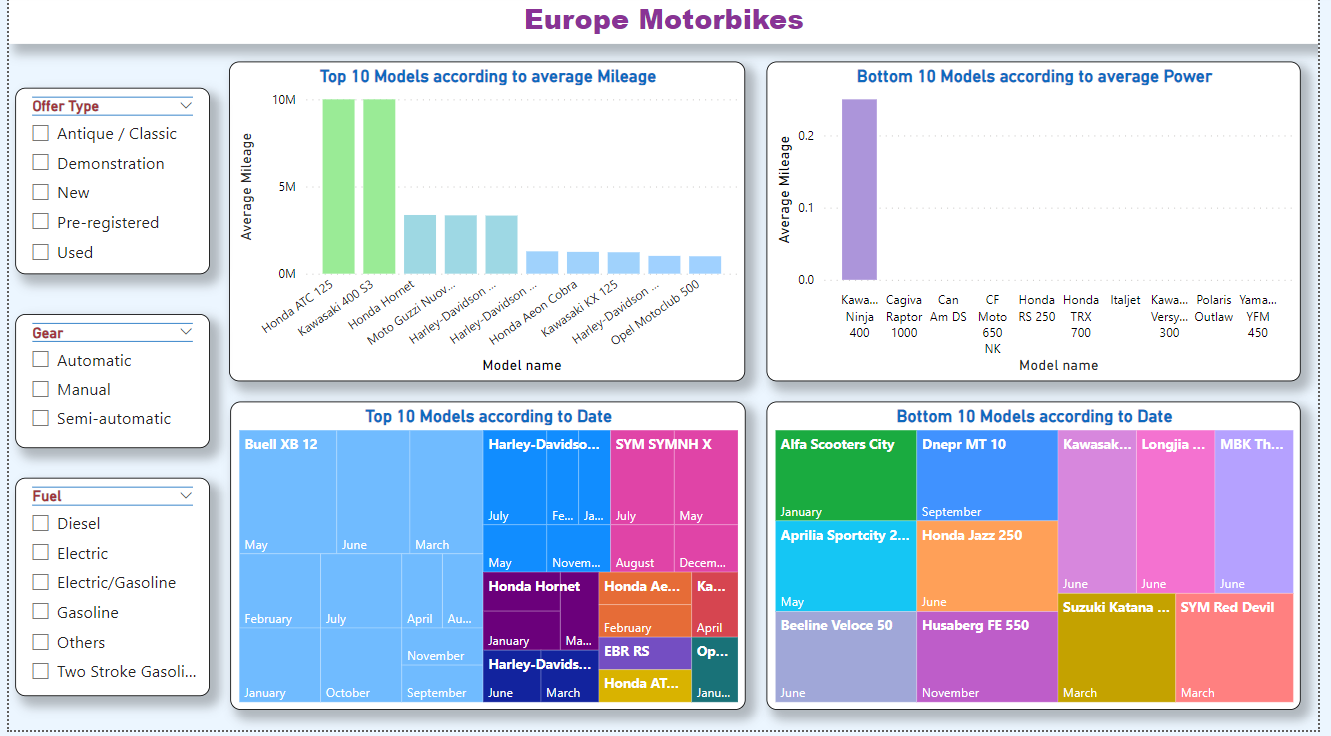

What the dashboard file says about the page in this screenshot:
{"tool":"powerbi","page":{"name":"Mileage & Date/Month","canvas":[1280,720],"ordinal":1},"visuals":[{"type":"textbox","box":[0,0,1281.1,48.9],"z":0},{"type":"columnChart","title":"Top 10 Models according to average Mileage","fields":{"Category":["europe-motorbikes-zenrows.make_model"],"Y":["Avg(europe-motorbikes-zenrows.mileage)"]},"box":[215,66.2,505,312.5],"z":1000},{"type":"columnChart","title":"Bottom 10 Models according to average Power","fields":{"Category":["europe-motorbikes-zenrows.make_model"],"Y":["Avg(europe-motorbikes-zenrows.mileage)"]},"box":[741.2,66.2,522.5,312.5],"z":2000},{"type":"treemap","title":"Top 10 Models according to Date","fields":{"Group":["europe-motorbikes-zenrows.make_model"],"Values":["Count(europe-motorbikes-zenrows.Year)"],"Details":["europe-motorbikes-zenrows.Month_name"]},"box":[216.2,398.8,503.8,301.2],"z":3000},{"type":"treemap","title":"Bottom 10 Models according to Date","fields":{"Group":["europe-motorbikes-zenrows.make_model"],"Details":["europe-motorbikes-zenrows.Month_name"],"Values":["Count(europe-motorbikes-zenrows.Year)"]},"box":[741.2,398.8,522.5,301.2],"z":4000},{"type":"slicer","fields":{"Values":["europe-motorbikes-zenrows.gear"]},"box":[6.2,312.5,190,131.2],"z":5000},{"type":"slicer","fields":{"Values":["europe-motorbikes-zenrows.fuel"]},"box":[6.2,472.5,190,213.8],"z":6000},{"type":"slicer","fields":{"Values":["europe-motorbikes-zenrows.offer_type"]},"box":[6.2,91.2,190,182.5],"z":7000}]}

Visuals, with their boxes in screenshot pixels (x1, y1, x2, y2), scaled from the page's 1280x720 canvas onto the 1331x736 screenshot:
textbox: [0,0,1330,50]
"Top 10 Models according to average Mileage" columnChart: [224,68,749,387]
"Bottom 10 Models according to average Power" columnChart: [771,68,1314,387]
"Top 10 Models according to Date" treemap: [225,408,749,716]
"Bottom 10 Models according to Date" treemap: [771,408,1314,716]
slicer - europe-motorbikes-zenrows.gear: [6,319,204,454]
slicer - europe-motorbikes-zenrows.fuel: [6,483,204,702]
slicer - europe-motorbikes-zenrows.offer_type: [6,93,204,280]
